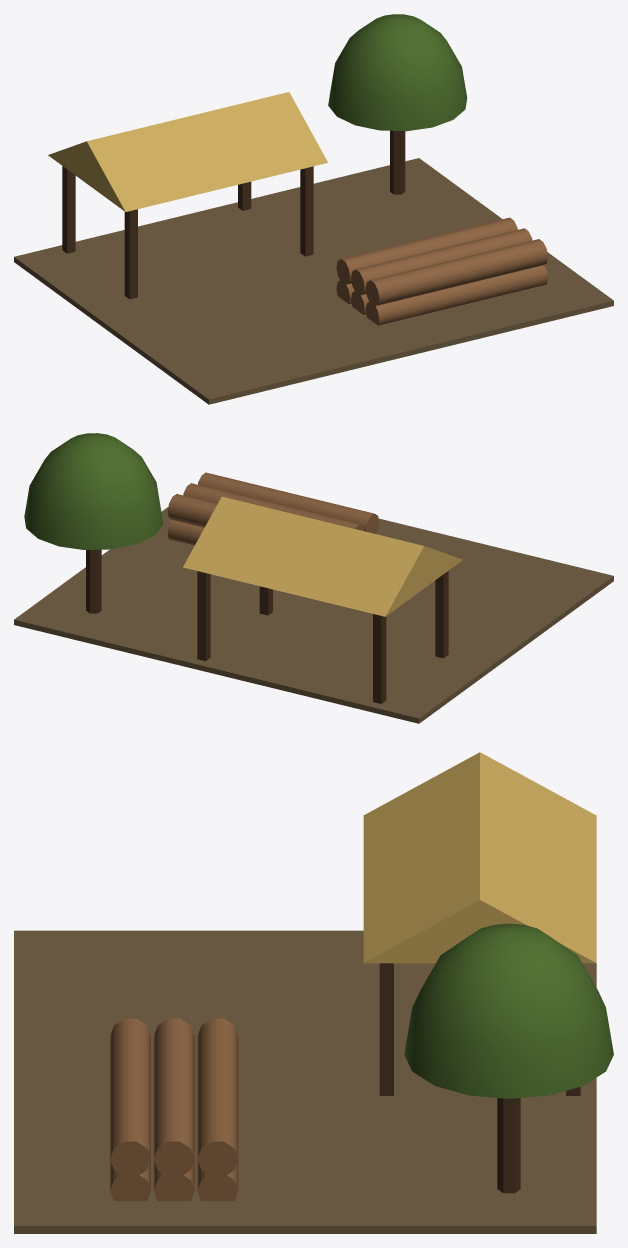
Rendered from lumber.glb.
3 views of the same model, one above another, from view 1: azimuth 30°, elevation 25°; view 2: azimuth 150°, elevation 25°; view 3: azimuth 270°, elevation 25° (orthographic). The views are drawn at different scales.
Visible parts, largest first — view 1: Lumber; view 2: Lumber; view 3: Lumber.
Boxes of the visible parts, <box> form: Lumber: <box>14,14,613,404</box>; Lumber: <box>14,433,613,723</box>; Lumber: <box>14,752,613,1233</box>.
Bounding box in the file's own units: 12.3 × 5.04 × 10.3.
